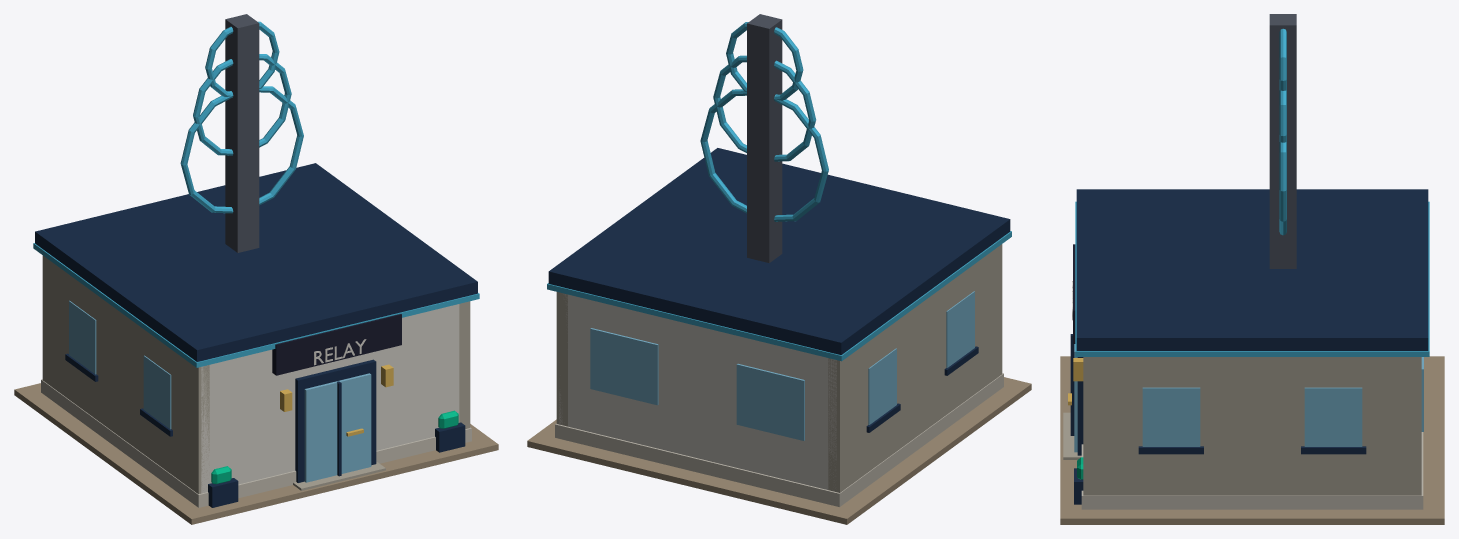
The model's file is relay-tower-BtXy5TIb.glb.
3 renders of one model, left to right at view 1: azimuth 30°, elevation 25°; view 2: azimuth 150°, elevation 25°; view 3: azimuth 270°, elevation 25°, orthographic. The views are drawn at different scales.
Parts seen in each view (by area): view 1: Architecture; view 2: Architecture; view 3: Architecture.
Boxes of the visible parts, x1,y1,x2,y2 form: Architecture: [14, 14, 498, 524]; Architecture: [527, 14, 1031, 524]; Architecture: [1060, 14, 1444, 524].
Bounding box in the file's own units: 10 × 12.18 × 10.
